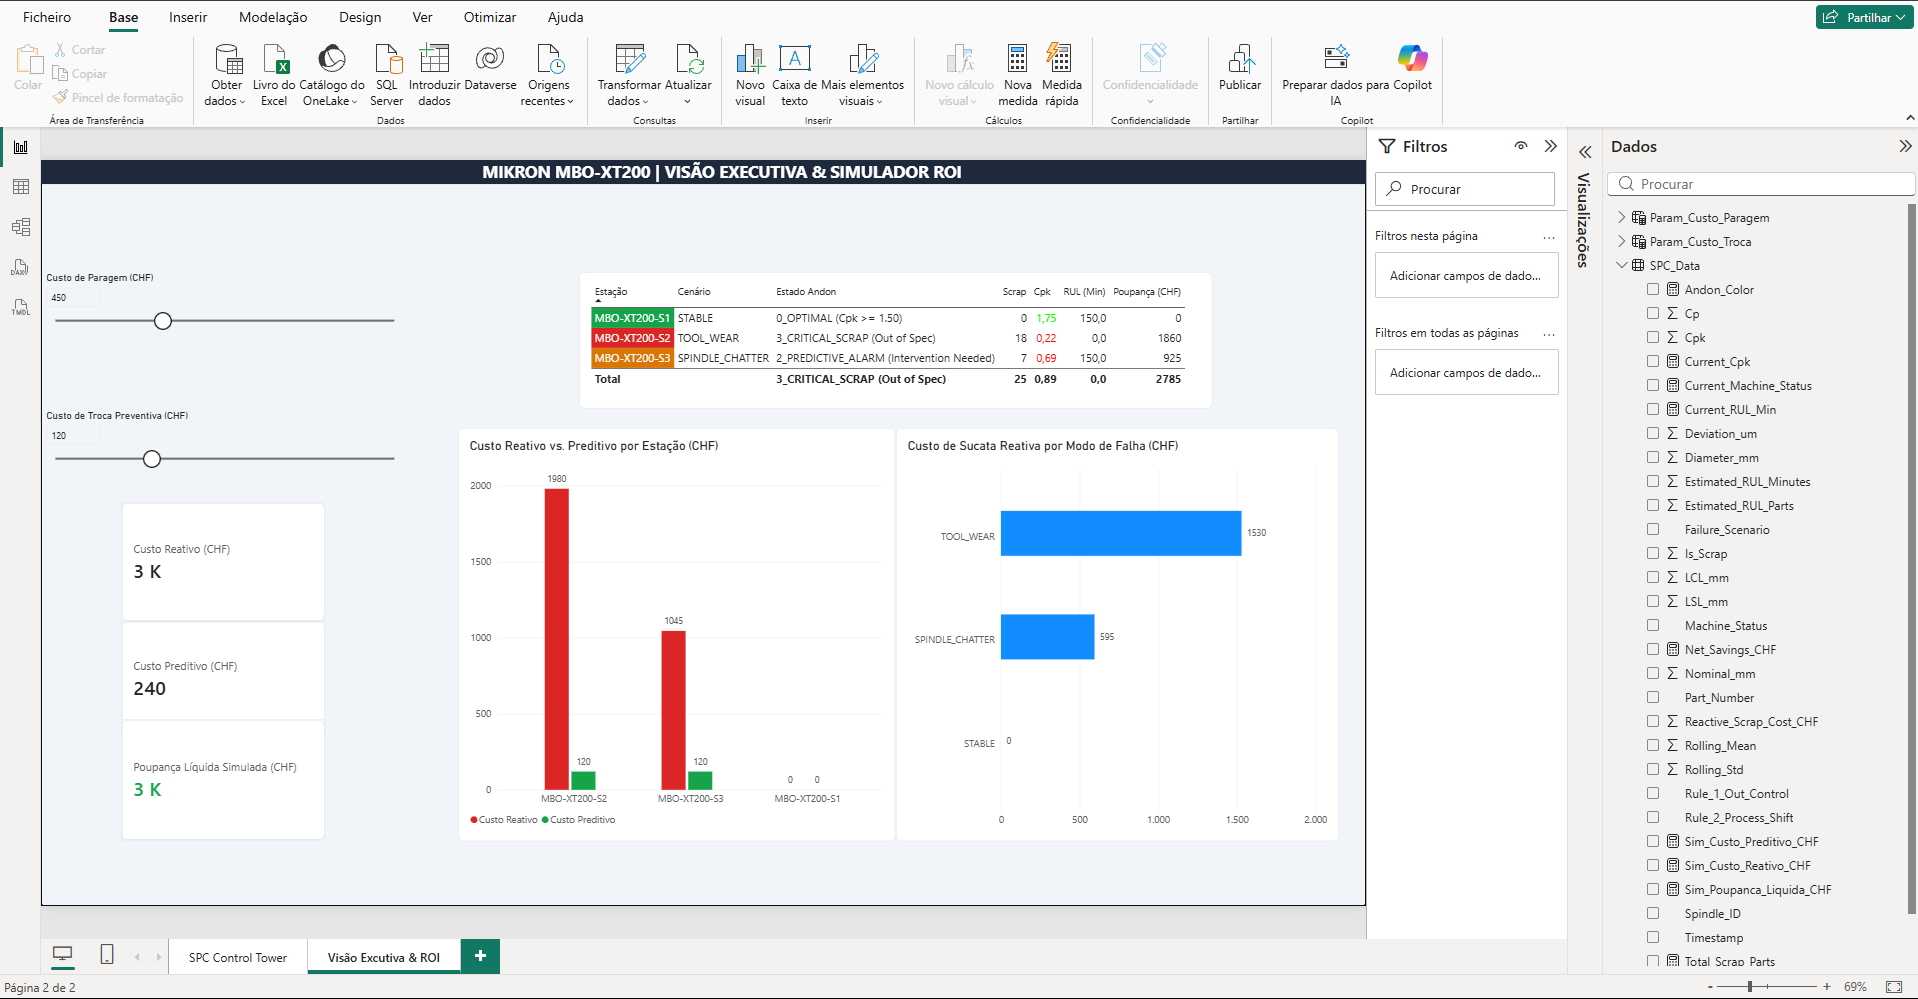

What the dashboard file says about the page in this screenshot:
{"tool":"powerbi","page":{"name":"Visão Excutiva & ROI","canvas":[1920,1080],"ordinal":1},"visuals":[{"type":"shape","box":[0,0,1920,34.9],"z":0},{"type":"textbox","box":[530.9,0,913.1,34.9],"z":1000},{"type":"slicer","fields":{"Values":["Param_Custo_Paragem.Param_Custo_Paragem"]},"box":[0,162.4,530.2,144.6],"z":2000},{"type":"slicer","fields":{"Values":["Param_Custo_Troca.Param_Custo_Troca"]},"box":[0,361.8,530.2,167.8],"z":3000},{"type":"cardVisual","fields":{"Data":["SPC_Data.Sim_Custo_Reativo_CHF"]},"box":[116.6,495.1,296.3,173.2],"z":4000},{"type":"cardVisual","fields":{"Data":["SPC_Data.Sim_Custo_Preditivo_CHF"]},"box":[116.6,667.9,296.3,167.8],"z":5000},{"type":"cardVisual","fields":{"Data":["SPC_Data.Sim_Poupanca_Liquida_CHF"]},"box":[116.6,810.5,296.3,176.7],"z":6000},{"type":"tableEx","fields":{"Values":["SPC_Data.Spindle_ID","SPC_Data.Failure_Scenario","SPC_Data.Current_Machine_Status","SPC_Data.Total_Scrap_Parts","SPC_Data.Current_Cpk","SPC_Data.Current_RUL_Min","SPC_Data.Sim_Poupanca_Liquida_CHF"]},"box":[779.4,162.3,917.7,198.2],"z":7000},{"type":"clusteredColumnChart","title":"Custo Reativo vs. Preditivo por Estação (CHF)","fields":{"Category":["SPC_Data.Spindle_ID"],"Y":["SPC_Data.Sim_Custo_Reativo_CHF","SPC_Data.Sim_Custo_Preditivo_CHF"]},"box":[604.8,388.1,633.6,599.3],"z":8000},{"type":"clusteredBarChart","title":"Custo de Sucata Reativa por Modo de Falha (CHF)","fields":{"Category":["SPC_Data.Failure_Scenario"],"Y":["Sum(SPC_Data.Reactive_Scrap_Cost_CHF)"]},"box":[1238.4,388.1,641.8,599.3],"z":9000}]}

Visuals, with their boxes on the page's 1920x1080 design canvas (x1, y1, x2, y2). These are canvas units, not pixel positions in the 1918x999 screenshot, which may show the page scaled, cropped or inside an application window:
shape: {"left": 0, "top": 0, "right": 1920, "bottom": 35}
textbox: {"left": 531, "top": 0, "right": 1444, "bottom": 35}
slicer - Param_Custo_Paragem.Param_Custo_Paragem: {"left": 0, "top": 162, "right": 530, "bottom": 307}
slicer - Param_Custo_Troca.Param_Custo_Troca: {"left": 0, "top": 362, "right": 530, "bottom": 530}
cardVisual - SPC_Data.Sim_Custo_Reativo_CHF: {"left": 117, "top": 495, "right": 413, "bottom": 668}
cardVisual - SPC_Data.Sim_Custo_Preditivo_CHF: {"left": 117, "top": 668, "right": 413, "bottom": 836}
cardVisual - SPC_Data.Sim_Poupanca_Liquida_CHF: {"left": 117, "top": 810, "right": 413, "bottom": 987}
tableEx - SPC_Data.Spindle_ID x SPC_Data.Failure_Scenario: {"left": 779, "top": 162, "right": 1697, "bottom": 360}
"Custo Reativo vs. Preditivo por Estação (CHF)" clusteredColumnChart: {"left": 605, "top": 388, "right": 1238, "bottom": 987}
"Custo de Sucata Reativa por Modo de Falha (CHF)" clusteredBarChart: {"left": 1238, "top": 388, "right": 1880, "bottom": 987}
